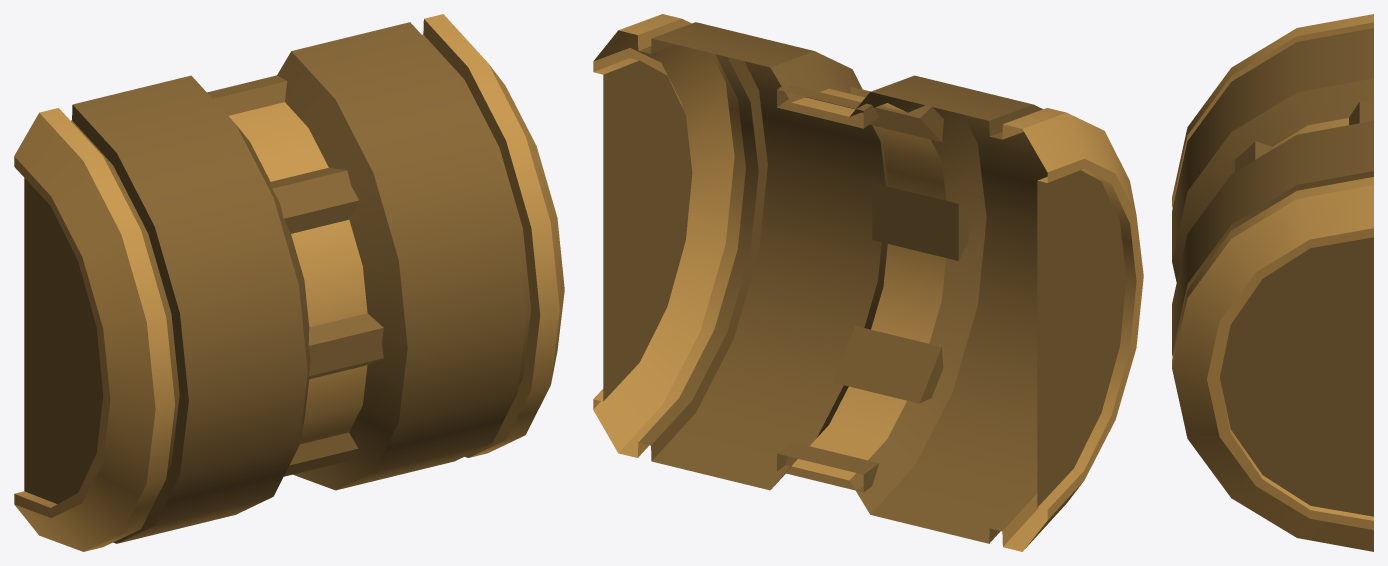
Rendered from Details_Cylinder.gltf.
3 renders of one model, left to right at view 1: azimuth 30°, elevation 25°; view 2: azimuth 150°, elevation 25°; view 3: azimuth 270°, elevation 25°, orthographic. The views are drawn at different scales.
Visible parts, largest first — view 1: Details_Cylinder; view 2: Details_Cylinder; view 3: Details_Cylinder.
Part boxes in pixels (x1,y1,x2,y2): Details_Cylinder: (14,14,564,551); Details_Cylinder: (593,14,1143,551); Details_Cylinder: (1172,14,1373,551).
Bounding box in the file's own units: 0.4302 × 0.3827 × 0.1909.
